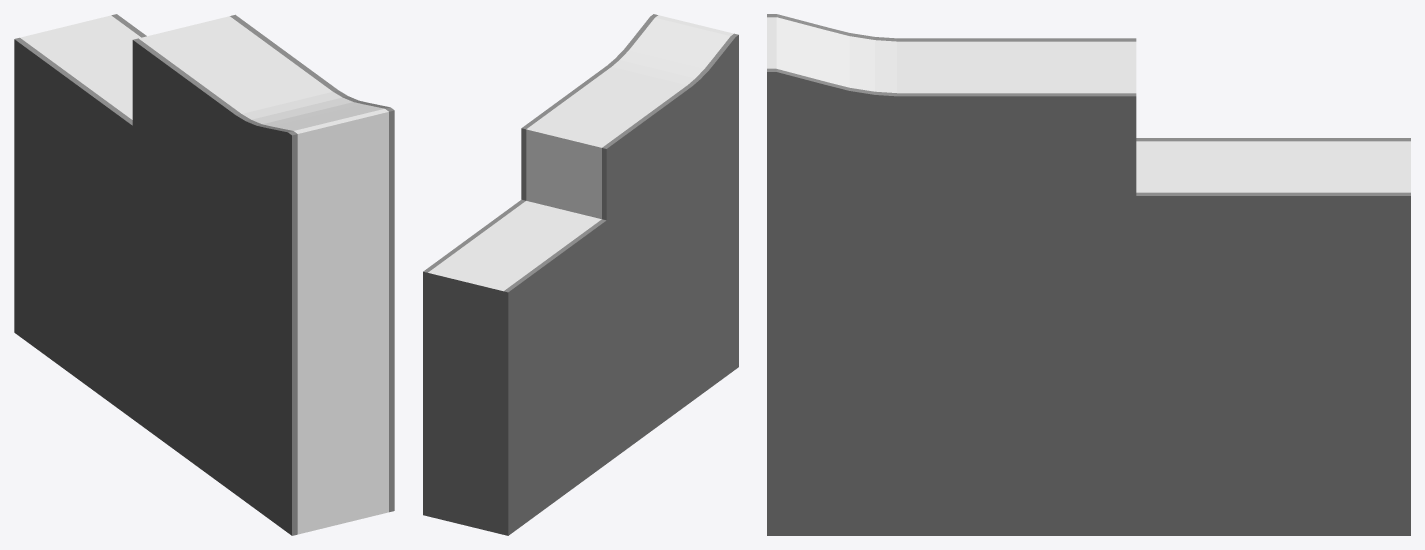
The model's file is cliffjumpchunk.fbx.
3 views of the same model, side by side, from view 1: azimuth 30°, elevation 25°; view 2: azimuth 150°, elevation 25°; view 3: azimuth 270°, elevation 25° (orthographic). The views are drawn at different scales.
Visible parts, largest first — view 1: cliffjumpchunk; view 2: cliffjumpchunk; view 3: cliffjumpchunk.
Part boxes in pixels (box(x1,y1,x2,y2)): cliffjumpchunk: box(14, 14, 394, 535); cliffjumpchunk: box(423, 14, 738, 535); cliffjumpchunk: box(767, 14, 1410, 535).
Bounding box in the file's own units: 25 × 117 × 93.19.
